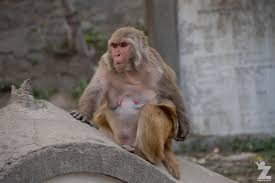monkey: (93, 14, 220, 175)
